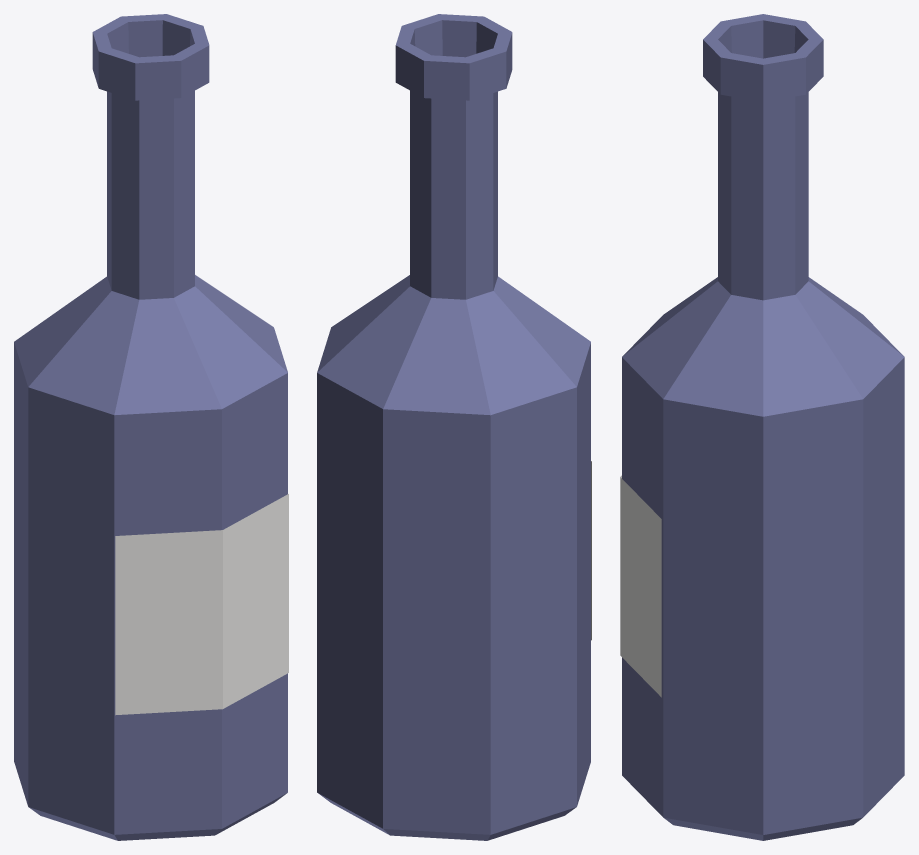
File: Bottle_1.fbx
3 renders of one model, left to right at view 1: azimuth 30°, elevation 25°; view 2: azimuth 150°, elevation 25°; view 3: azimuth 270°, elevation 25°, orthographic.
Parts seen in each view (by area): view 1: Bottle_1; view 2: Bottle_1; view 3: Bottle_1.
Boxes of the visible parts, x1,y1,x2,y2 form: Bottle_1: (14, 14, 288, 840); Bottle_1: (317, 14, 591, 840); Bottle_1: (620, 14, 904, 840).
Bounding box in the file's own units: 8.91 × 8.96 × 26.
